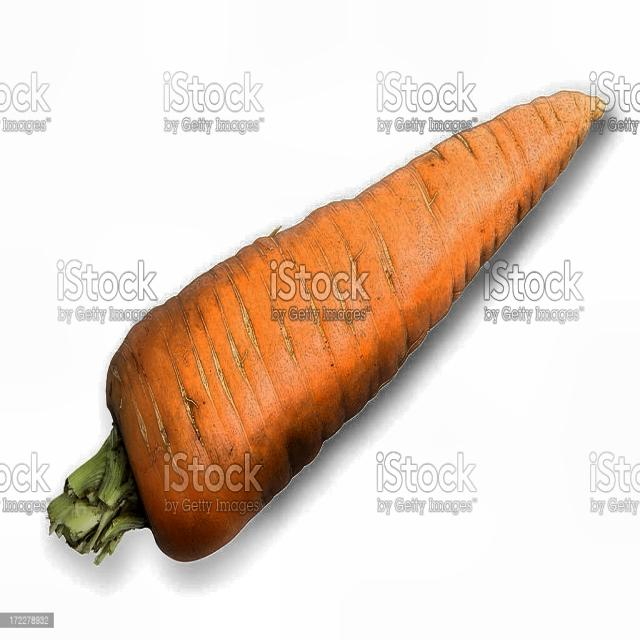carrot: (16, 26, 621, 627)
